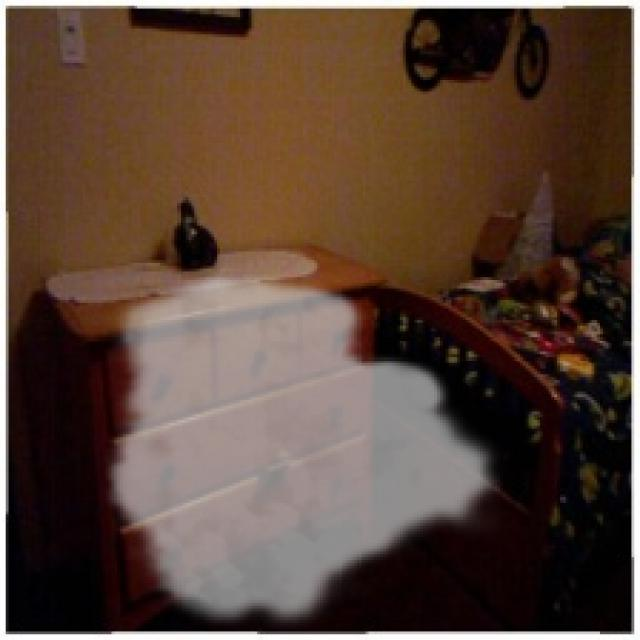Smoke: (103, 268, 506, 634)
